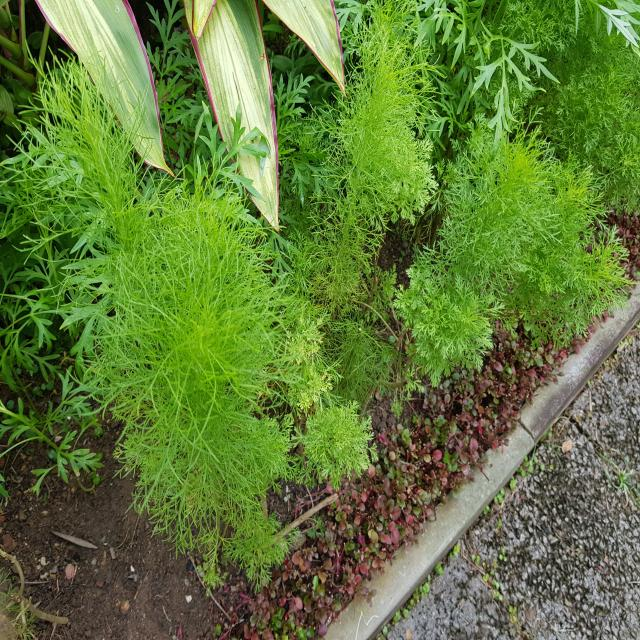Dill: (16, 70, 344, 558), (412, 115, 540, 387), (314, 14, 410, 323)
